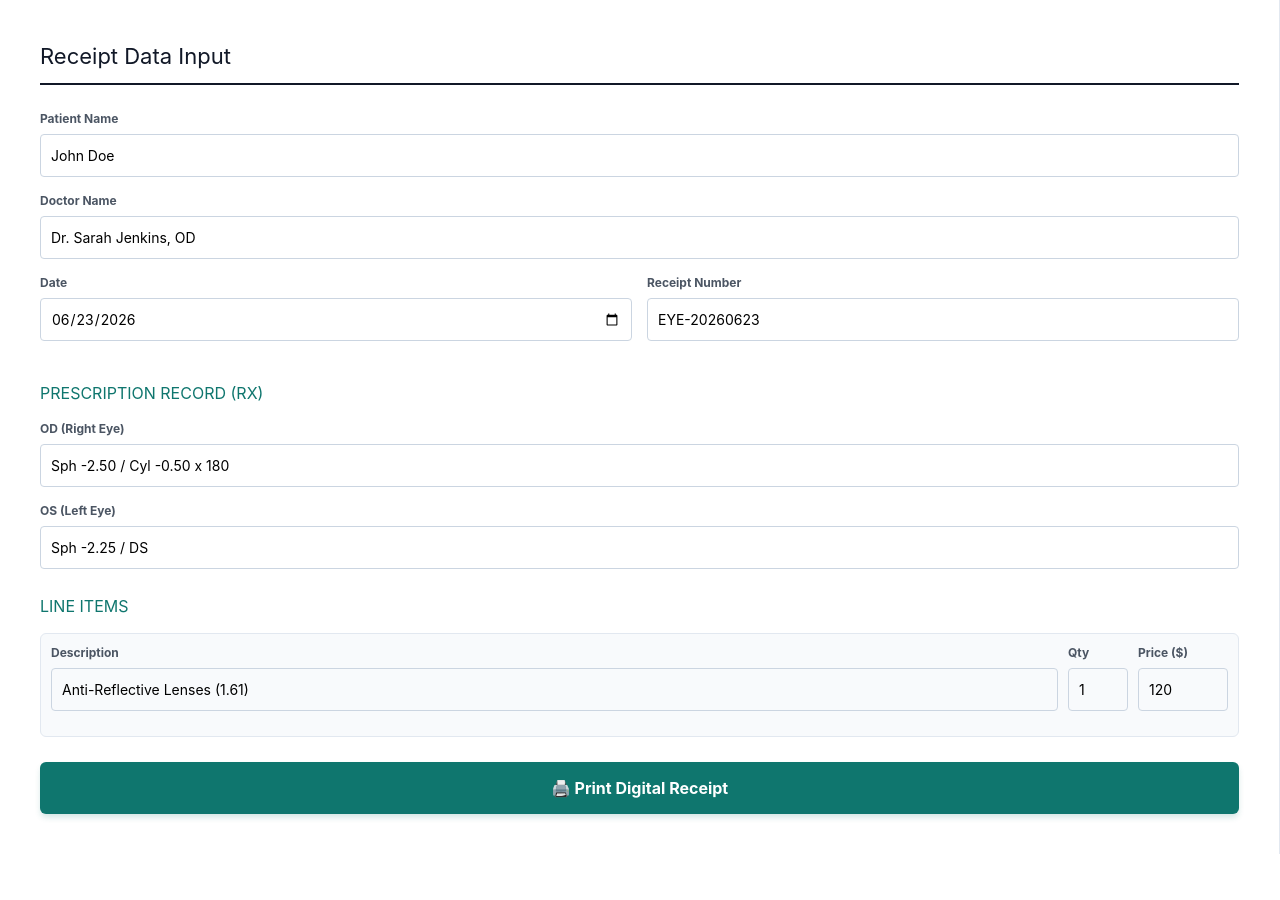
ReceiptForm Component - User Input Triggers › shows error when prescription OS is missing
This screenshot has width=1280, height=900.
Replace the text in the field labelled "OD (Right Eye)" with "Sph -2.00 / DS". click: x=640, y=466
box: [40,444,1239,487]
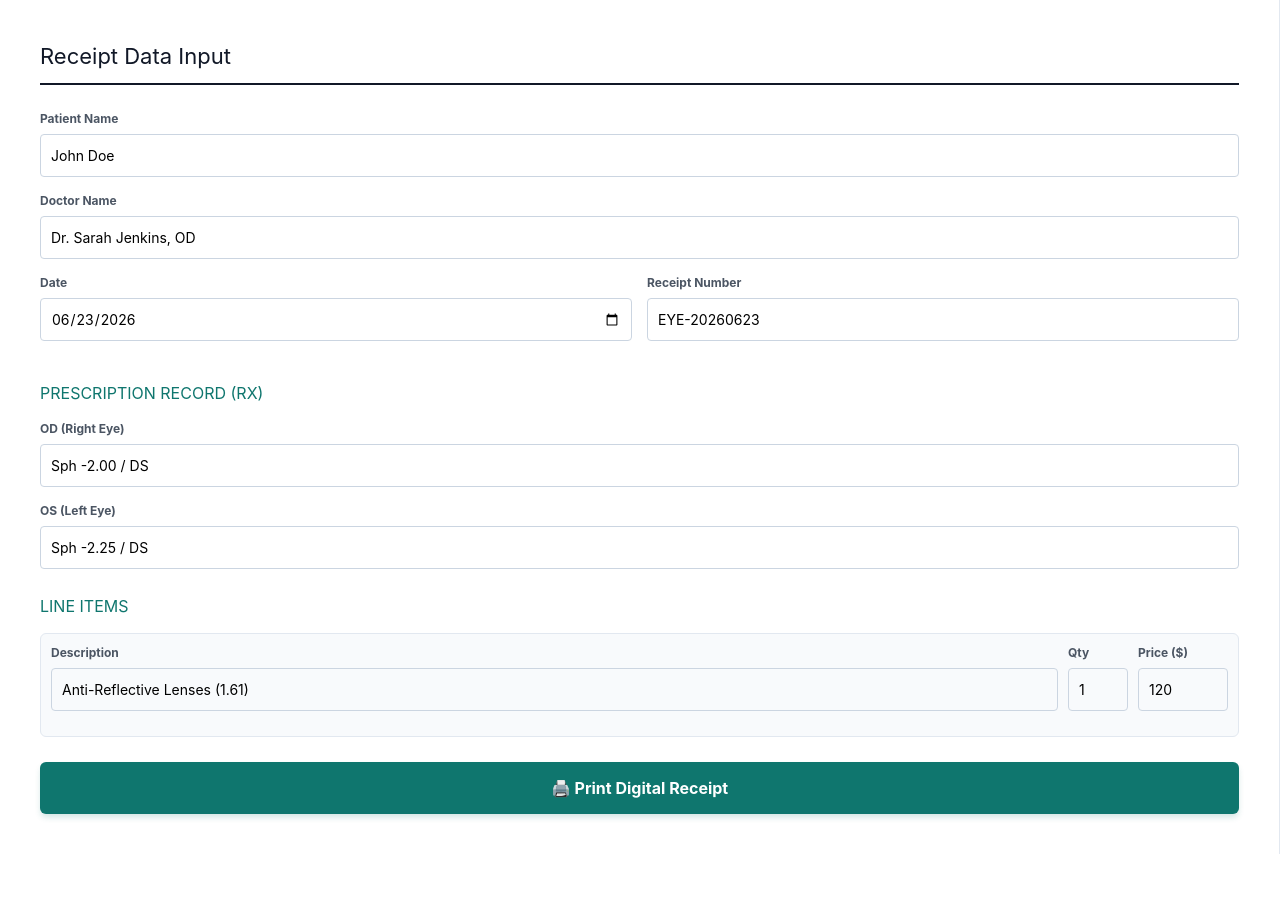
Clear the field labelled "OS (Left Eye)". click: x=640, y=548
box: [40,526,1239,569]
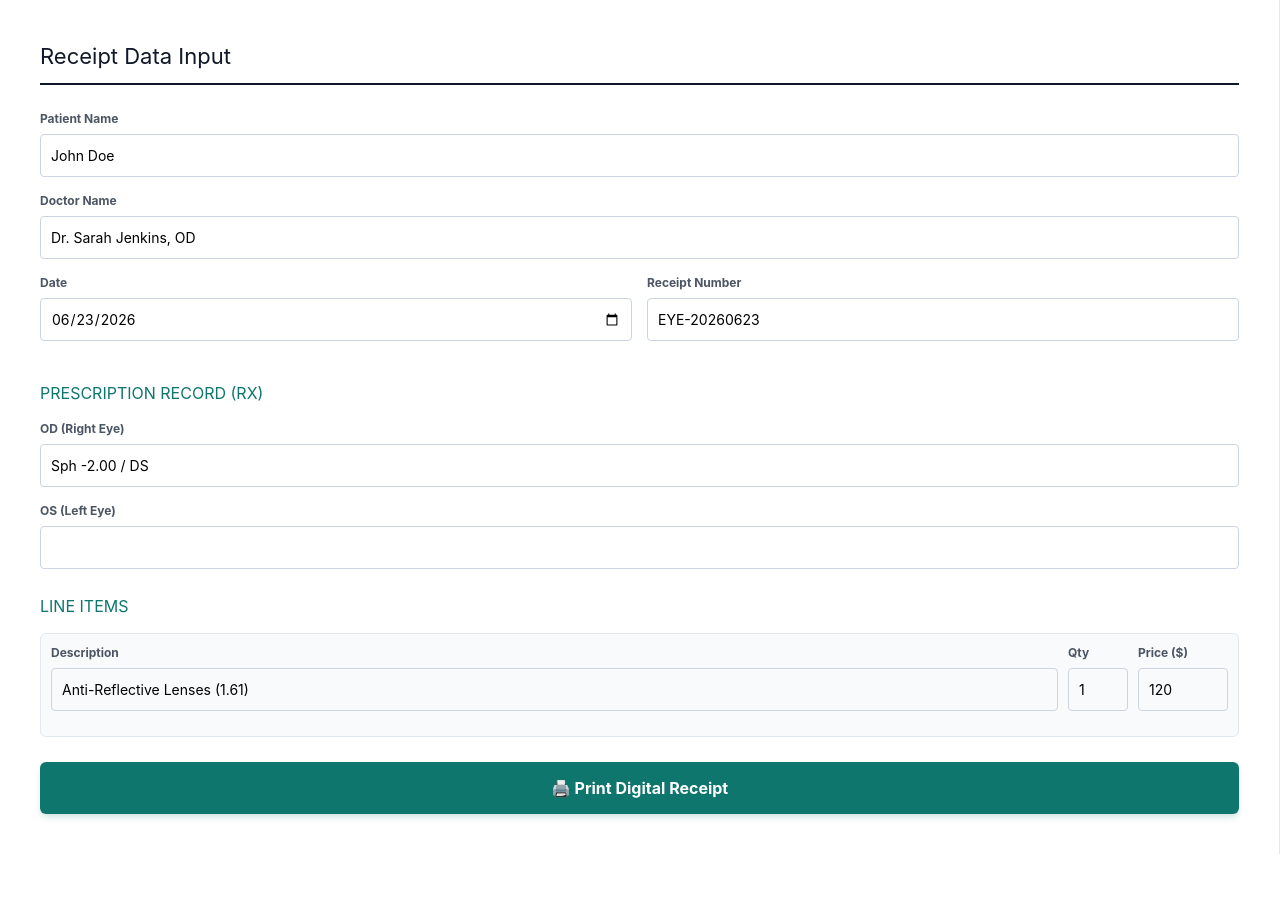
Submit the form
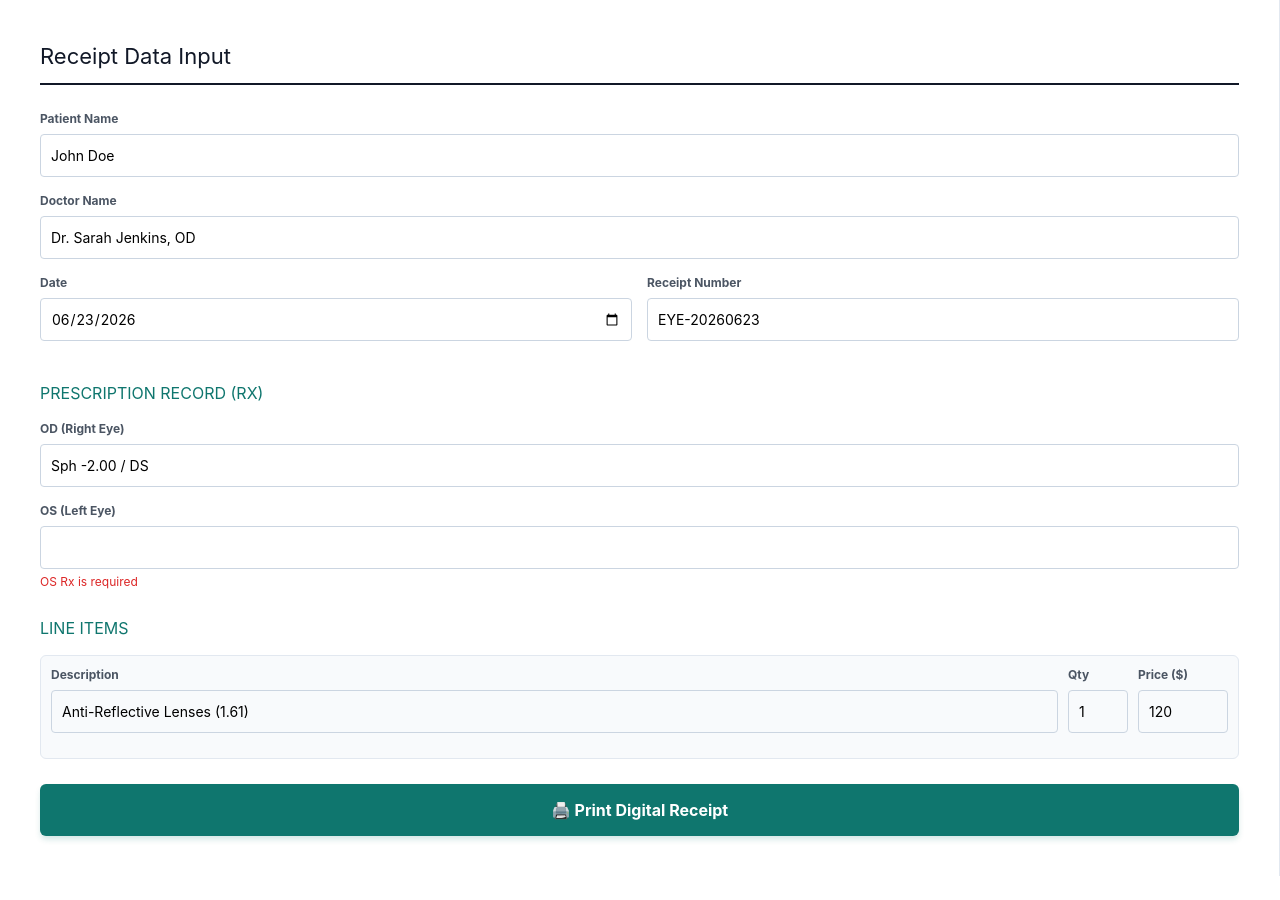
expect the text "OS Rx is required" is shown: met, box [40,574,138,589]
